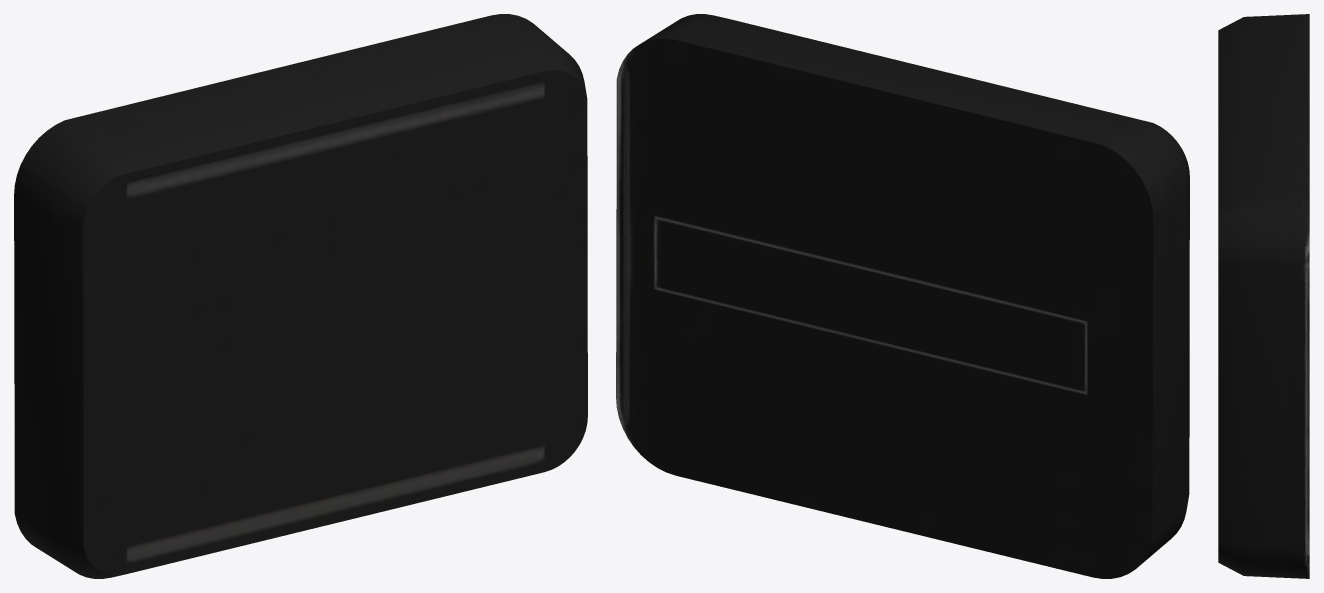
File: seat__seat_pad.glb
The picture shows the model from 3 angles, left to right: view 1: azimuth 30°, elevation 25°; view 2: azimuth 150°, elevation 25°; view 3: azimuth 270°, elevation 25°; orthographic projection. The views are drawn at different scales.
Visible parts, largest first — view 1: world; view 2: world; view 3: world.
Part boxes in pixels (box(x1,y1,x2,y2)): world: box(14, 14, 587, 578); world: box(616, 14, 1189, 578); world: box(1218, 14, 1309, 578).
Size of the model in its own units: 0.4 by 0.31 by 0.068.
1 material, 1 textured.
